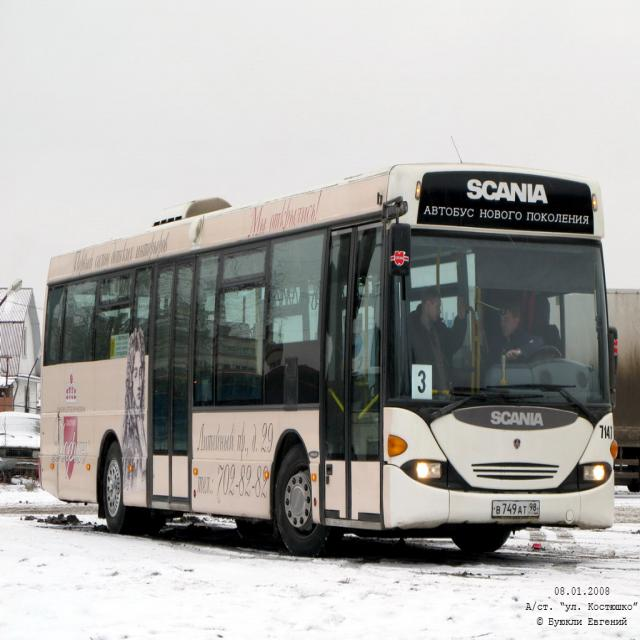number-of-bus: (413, 366, 434, 401)
